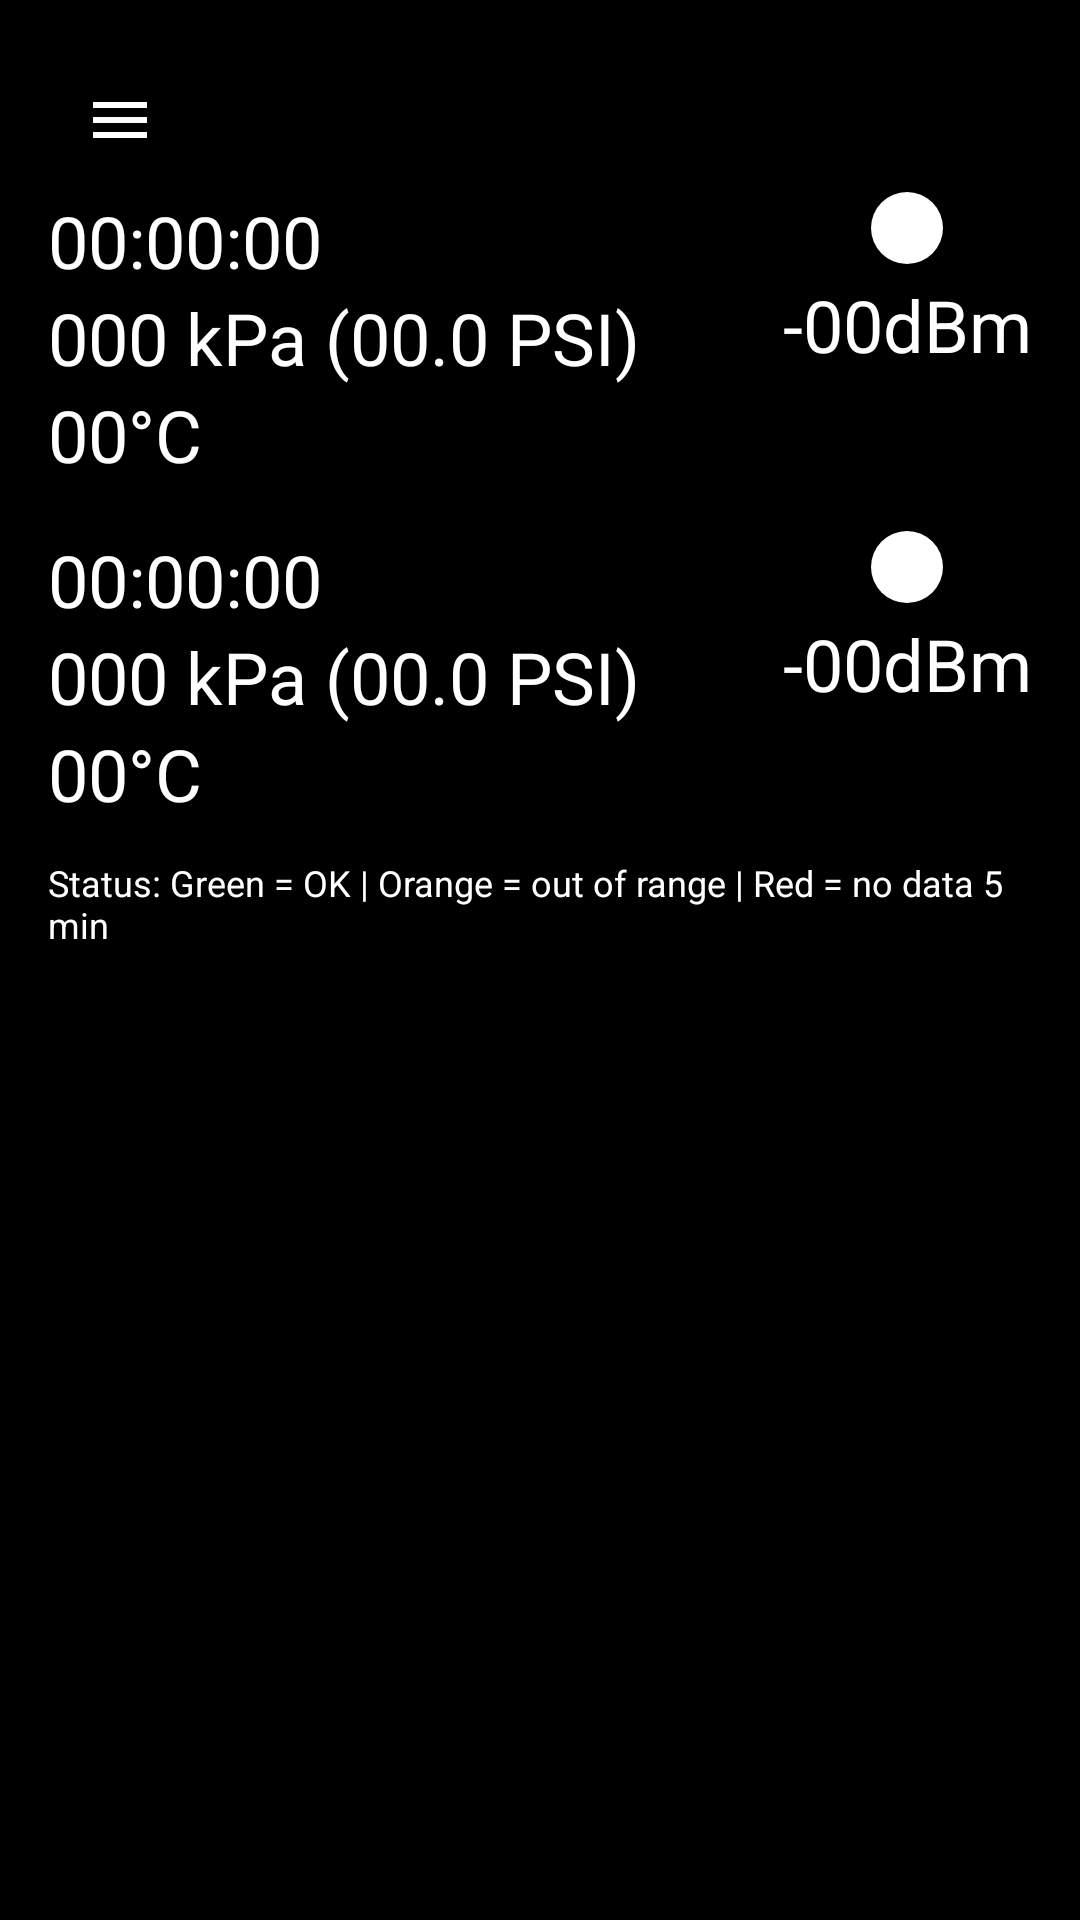

Locate icon controls on the screen. Image size 1080px x 1920px, boxes as [x1, y1, x2, y2].
dot shape: [871, 192, 943, 264], [871, 531, 943, 603]
